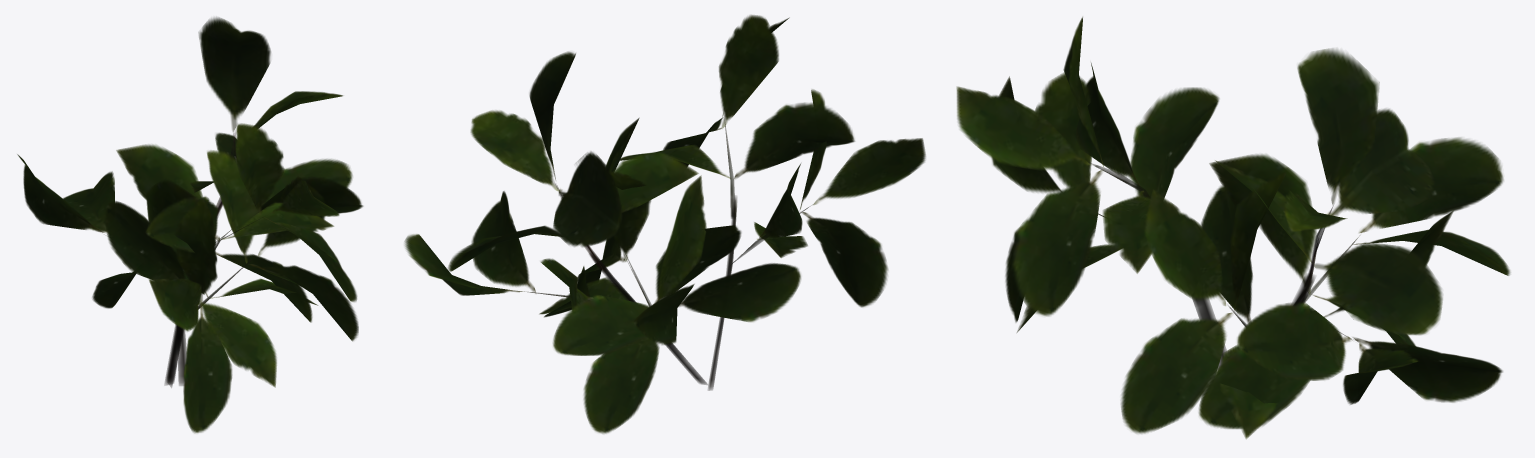
File: veg-33.glb
The picture shows the model from 3 angles, left to right: view 1: azimuth 30°, elevation 25°; view 2: azimuth 150°, elevation 25°; view 3: azimuth 270°, elevation 25°; orthographic projection. The views are drawn at different scales.
Parts seen in each view (by area): view 1: _s1se_VarF_LOD2_33; view 2: _s1se_VarF_LOD2_33; view 3: _s1se_VarF_LOD2_33.
Boxes of the visible parts, x1,y1,x2,y2 form: _s1se_VarF_LOD2_33: [17, 17, 363, 433]; _s1se_VarF_LOD2_33: [404, 15, 925, 433]; _s1se_VarF_LOD2_33: [956, 17, 1510, 438].
Size of the model in its own units: 0.2107 by 0.1877 by 0.2374.
Materials: 1 (1 with a texture image).
